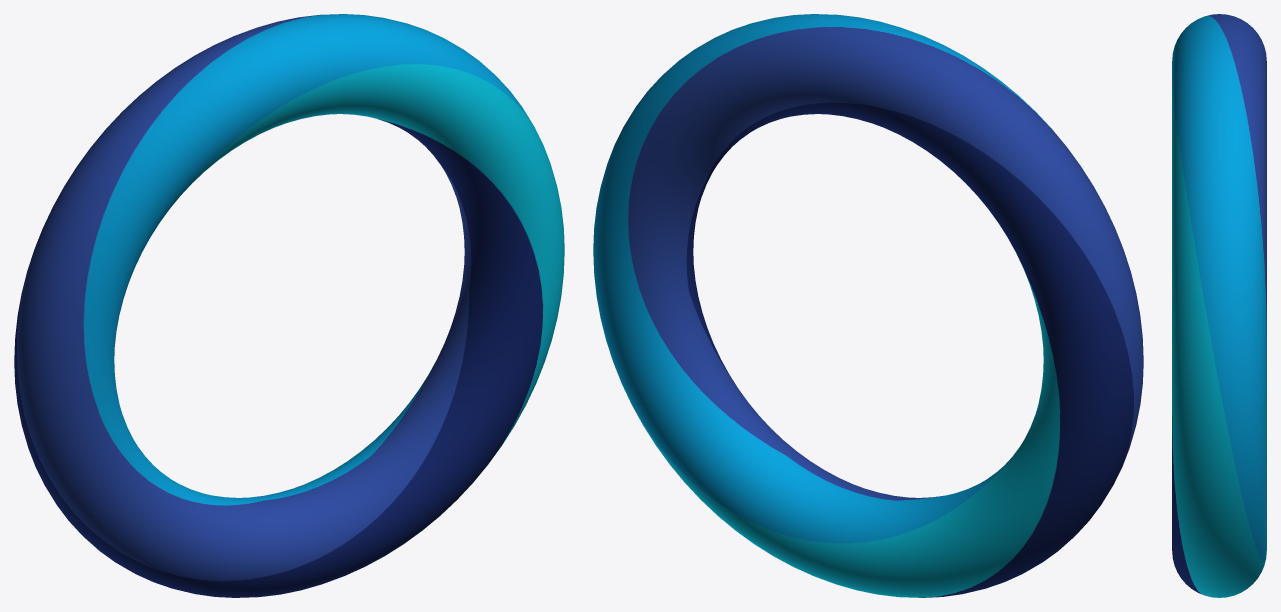
The model's file is Prop_zPortal_01.dae.
3 renders of one model, left to right at view 1: azimuth 30°, elevation 25°; view 2: azimuth 150°, elevation 25°; view 3: azimuth 270°, elevation 25°, orthographic. The views are drawn at different scales.
Parts seen in each view (by area): view 1: zPortal; view 2: zPortal; view 3: zPortal.
Boxes of the visible parts, x1,y1,x2,y2 form: zPortal: (14,14,564,597); zPortal: (593,14,1143,597); zPortal: (1172,14,1266,597).
Bounding box in the file's own units: 1.33 × 1.33 × 0.216.
Materials: 1 (1 with a texture image).
